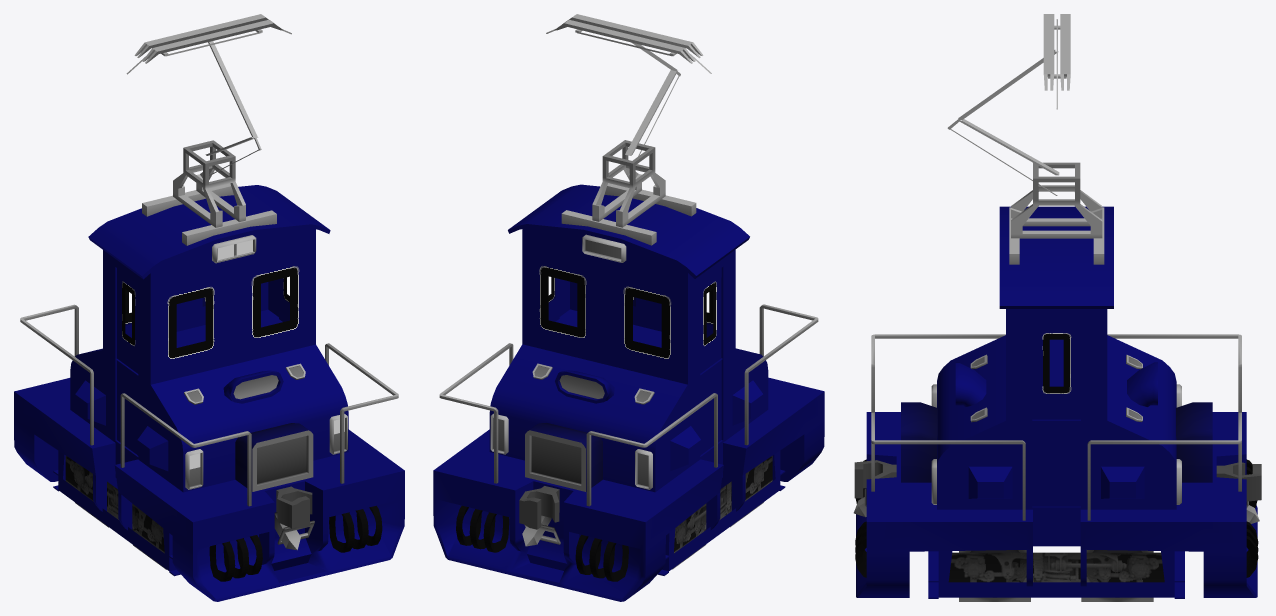
File: CHAR_SEL_DEKI.glb
The picture shows the model from 3 angles, left to right: view 1: azimuth 30°, elevation 25°; view 2: azimuth 150°, elevation 25°; view 3: azimuth 270°, elevation 25°; orthographic projection. The views are drawn at different scales.
Parts seen in each view (by area): view 1: yane; view 2: yane; view 3: yane.
Boxes of the visible parts, x1,y1,x2,y2 form: yane: (14, 14, 404, 601); yane: (433, 14, 824, 601); yane: (853, 14, 1261, 601).
Bounding box in the file's own units: 5.75 × 12.53 × 9.02.
Materials: 7 (7 with a texture image).
